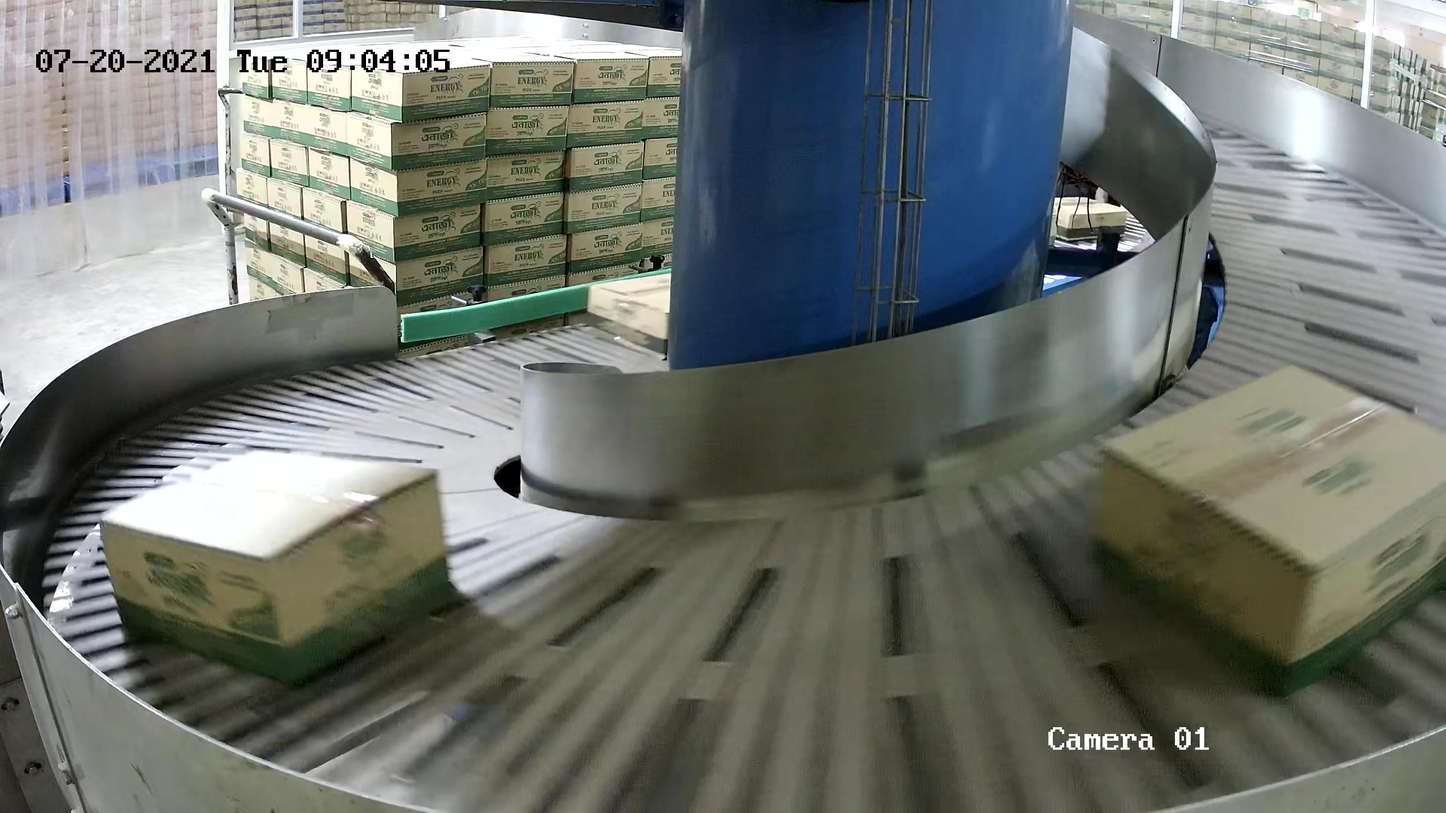Box: (1083, 359, 1446, 706), (97, 448, 457, 692), (585, 259, 768, 363)
